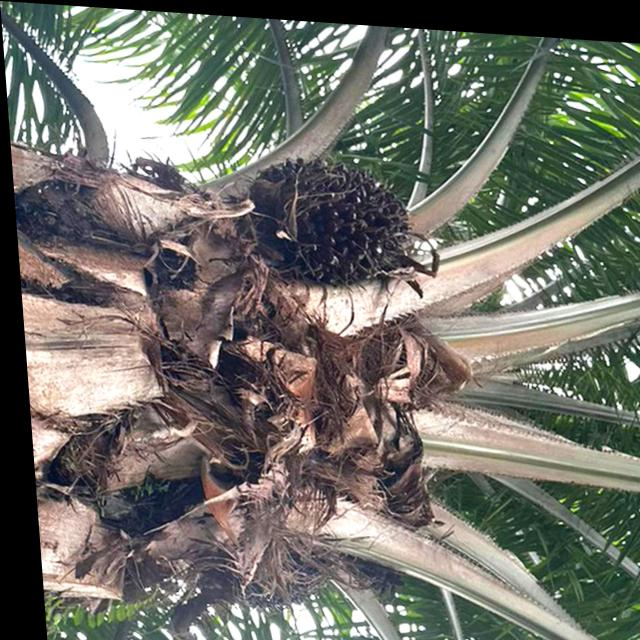almost: (229, 142, 419, 288)
